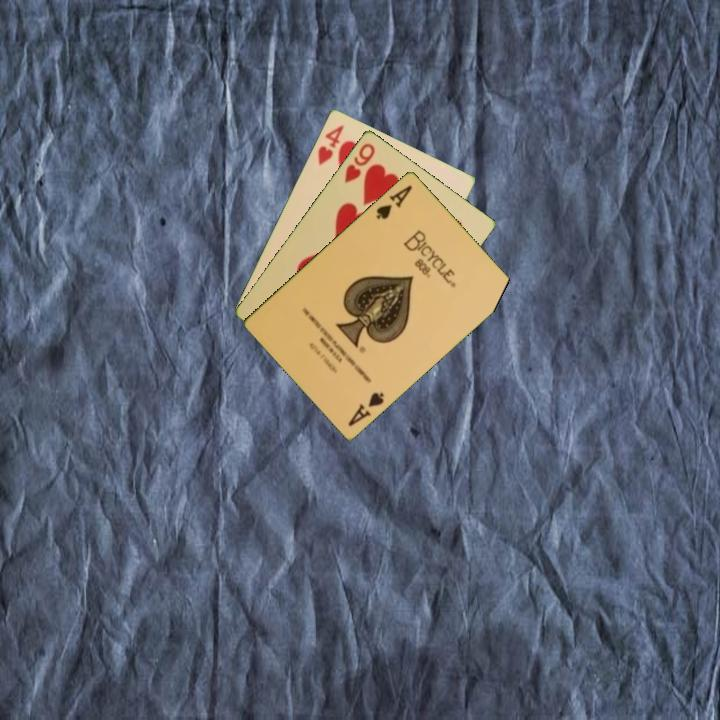4h: (314, 121, 346, 167)
9h: (341, 139, 378, 186)
As: (372, 181, 415, 222), (345, 388, 387, 429)
